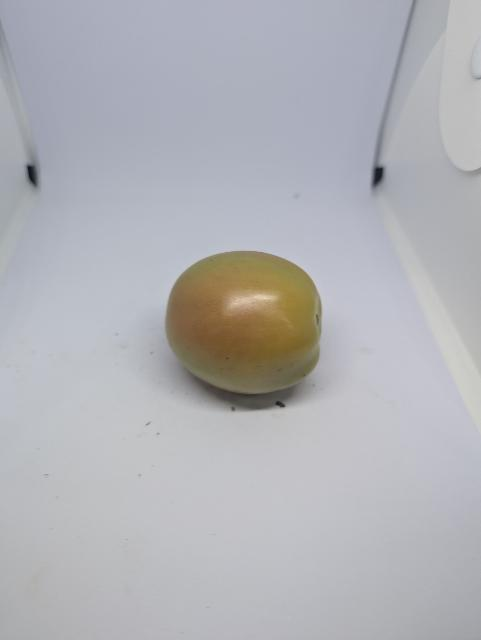breaker: (166, 251, 322, 394)
